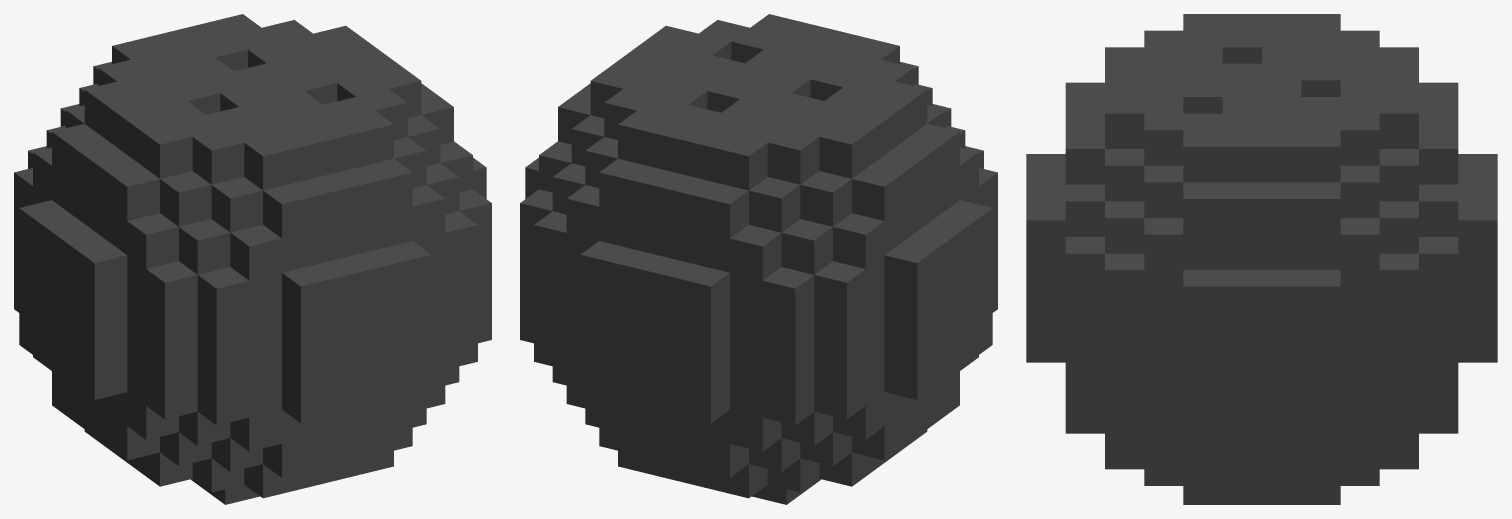
The model's file is Coconut.obj.
The picture shows the model from 3 angles, left to right: view 1: azimuth 30°, elevation 25°; view 2: azimuth 150°, elevation 25°; view 3: azimuth 270°, elevation 25°; orthographic projection. The views are drawn at different scales.
Size of the model in its own units: 1.2 by 1.1 by 1.2.
